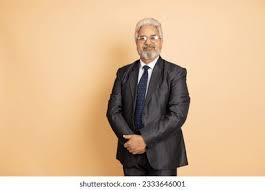Human: (101, 20, 197, 178)
